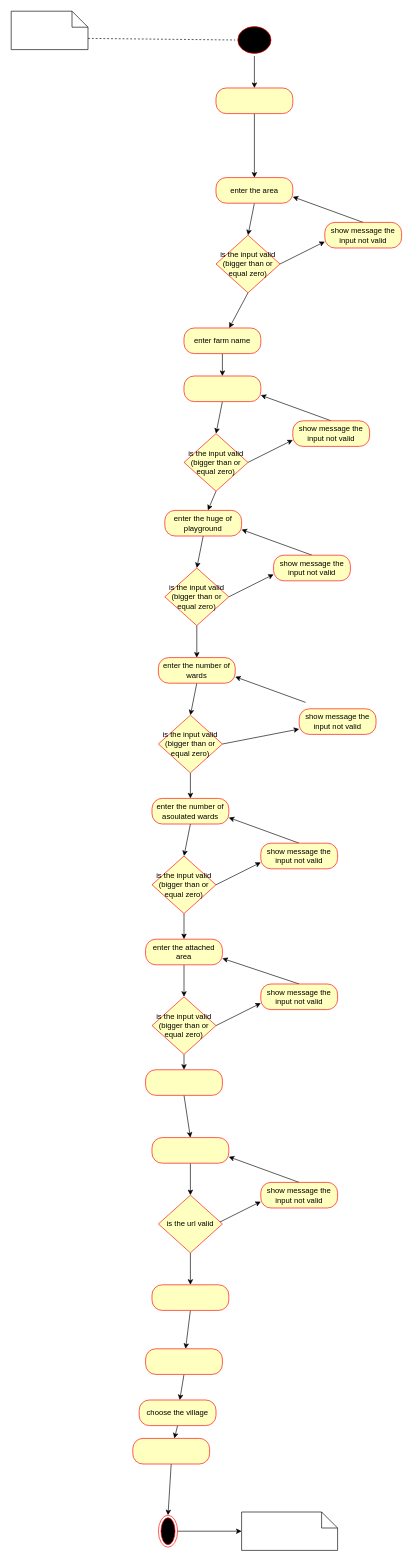
This 413x1562 diagram has some shape labels left out. Each missing label, with the box of its shape:
choose the city: (145, 1348, 222, 1374)
choose the gavernorate: (151, 1284, 229, 1310)
choose the sector type: (145, 1069, 222, 1095)
connect farm to farmer: (241, 1511, 338, 1550)
enter tax record: (215, 87, 293, 114)
enter the google map url: (151, 1137, 229, 1163)
enter the number of playground: (183, 375, 261, 402)
login: (11, 11, 88, 50)
press button to save: (132, 1438, 210, 1464)
